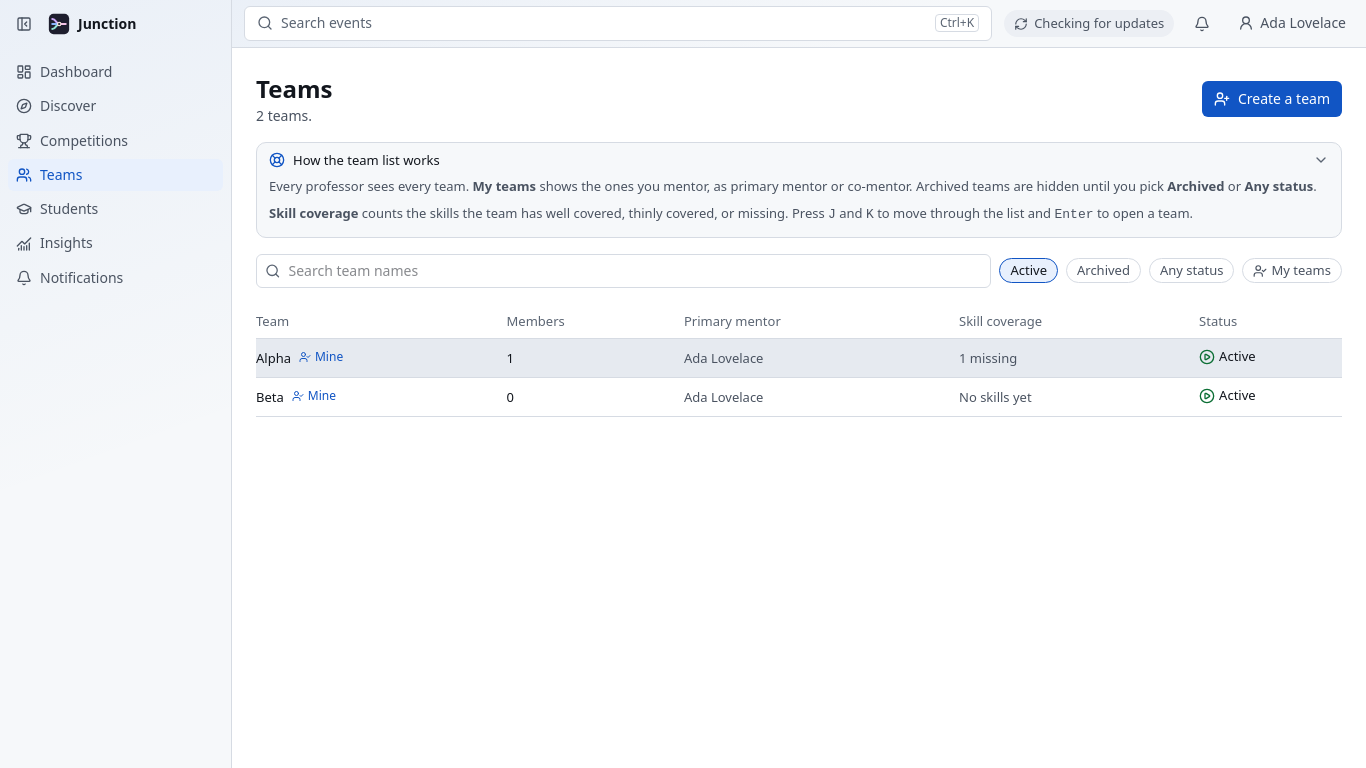
Test: the Teams list › asks the server for my teams and for archived teams
Check: the navigation bar named "Main" is shown, box [0, 0, 231, 302]
Check: the table is shown, box [256, 304, 1342, 417]
Click the button "My teams": x=1292, y=271 [1242, 258, 1342, 283]
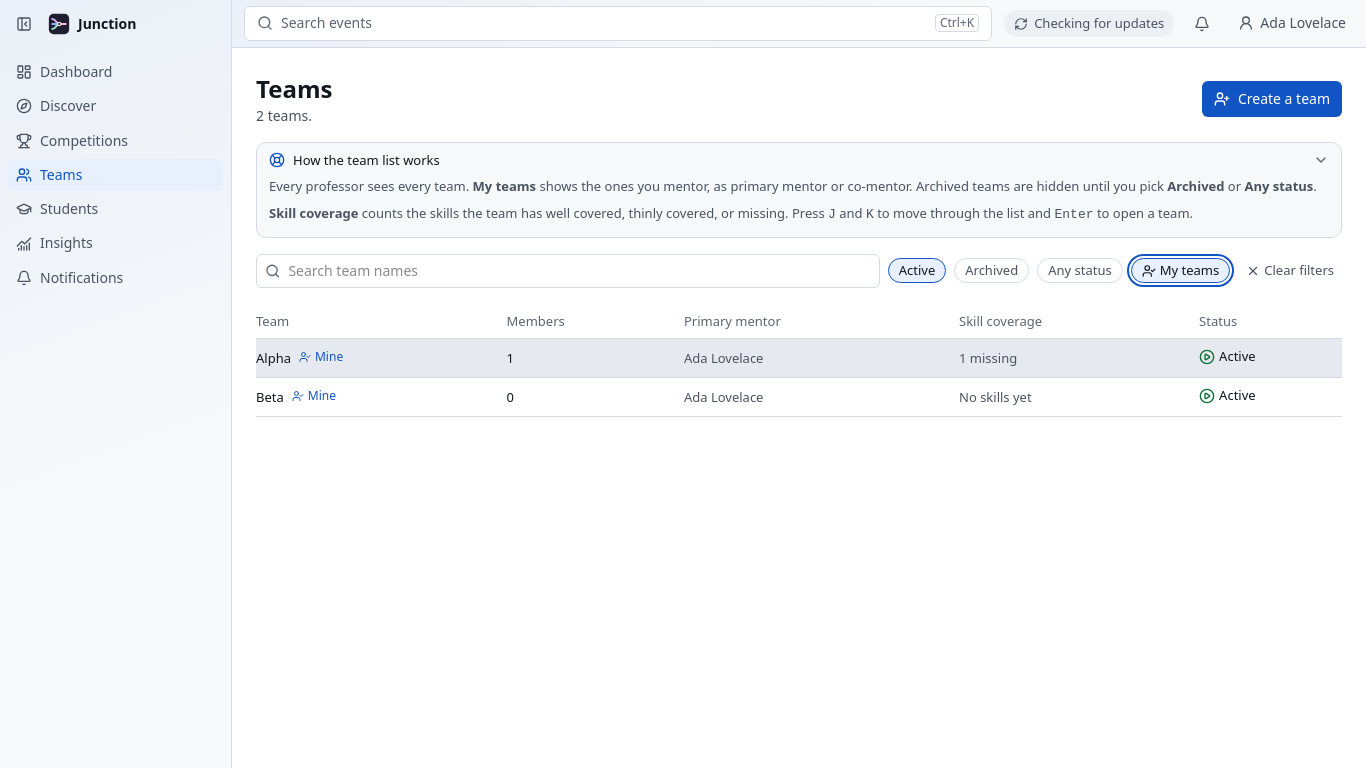
Click the button "Archived": x=992, y=271 [954, 258, 1029, 283]
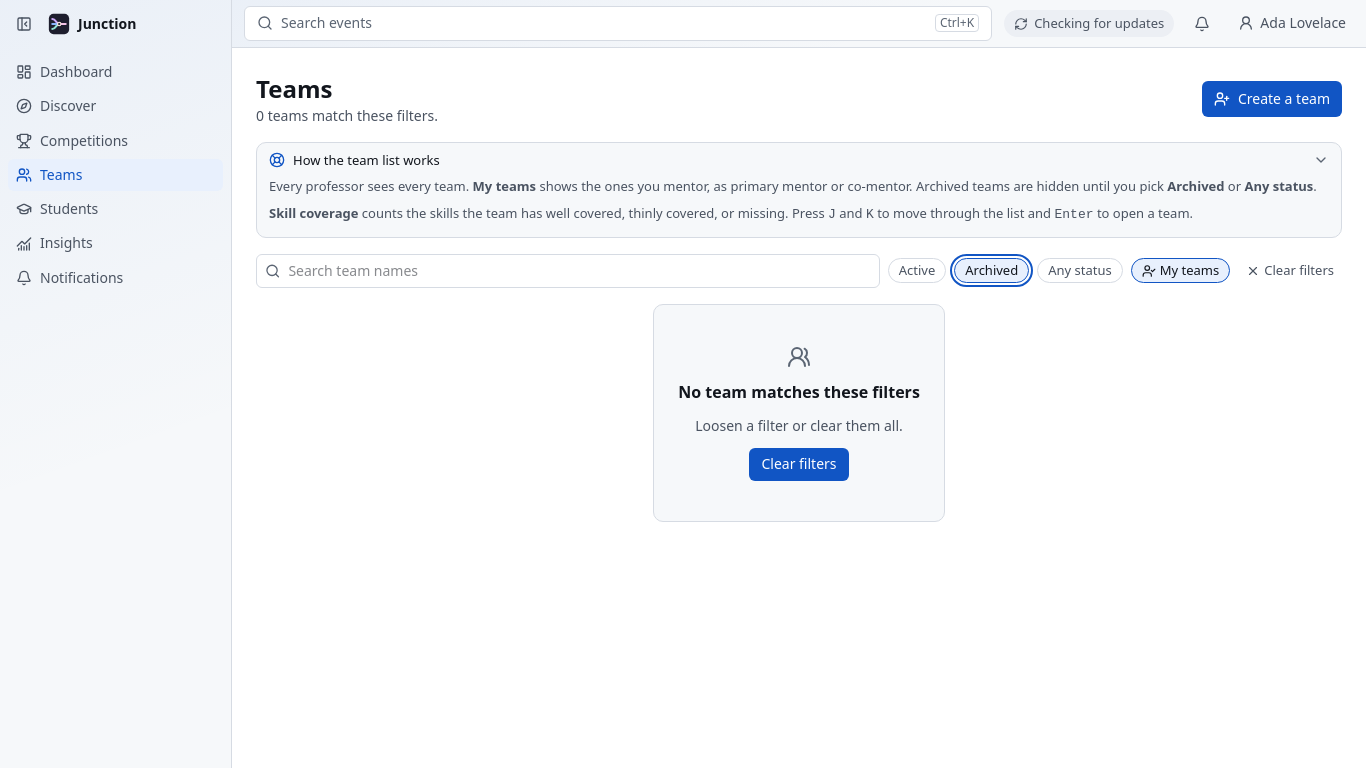
Check: the heading "No team matches these filters" is shown, box [678, 381, 920, 404]
